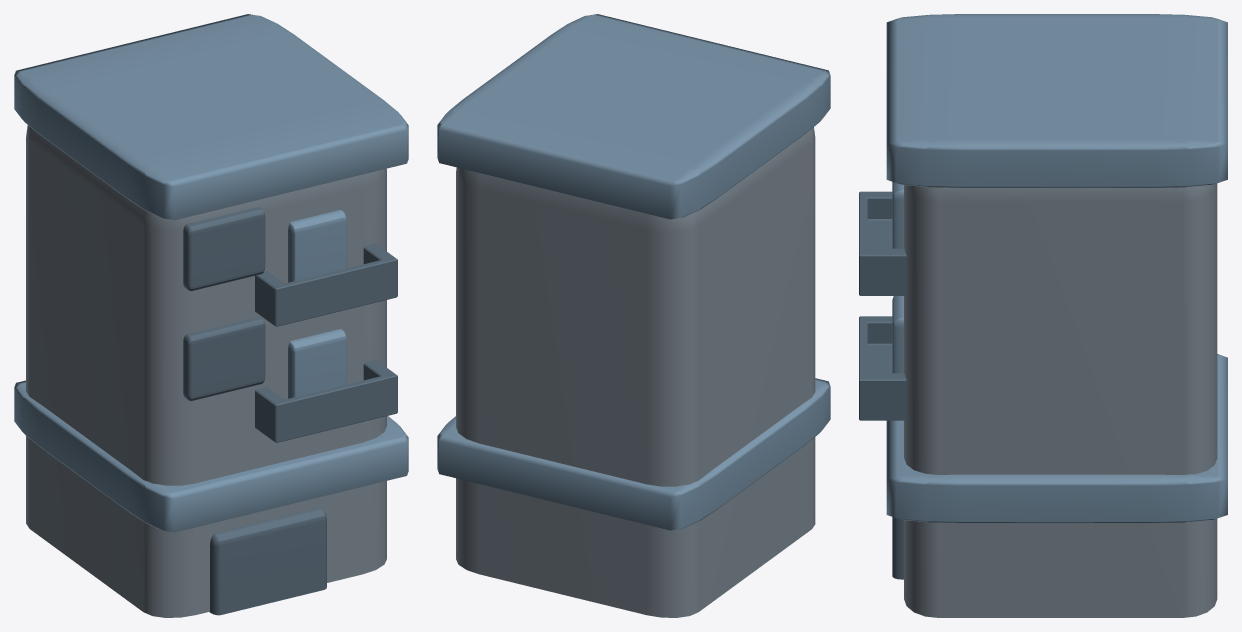
The picture shows the model from 3 angles, left to right: view 1: azimuth 30°, elevation 25°; view 2: azimuth 150°, elevation 25°; view 3: azimuth 270°, elevation 25°; orthographic projection. The views are drawn at different scales.
Visible parts, largest first — view 1: pCube41; view 2: pCube41; view 3: pCube41.
Boxes of the visible parts, x1,y1,x2,y2 form: pCube41: (14,14,408,617); pCube41: (437,14,830,617); pCube41: (859,14,1227,617).
Bounding box in the file's own units: 40.77 × 67.5 × 47.05.
